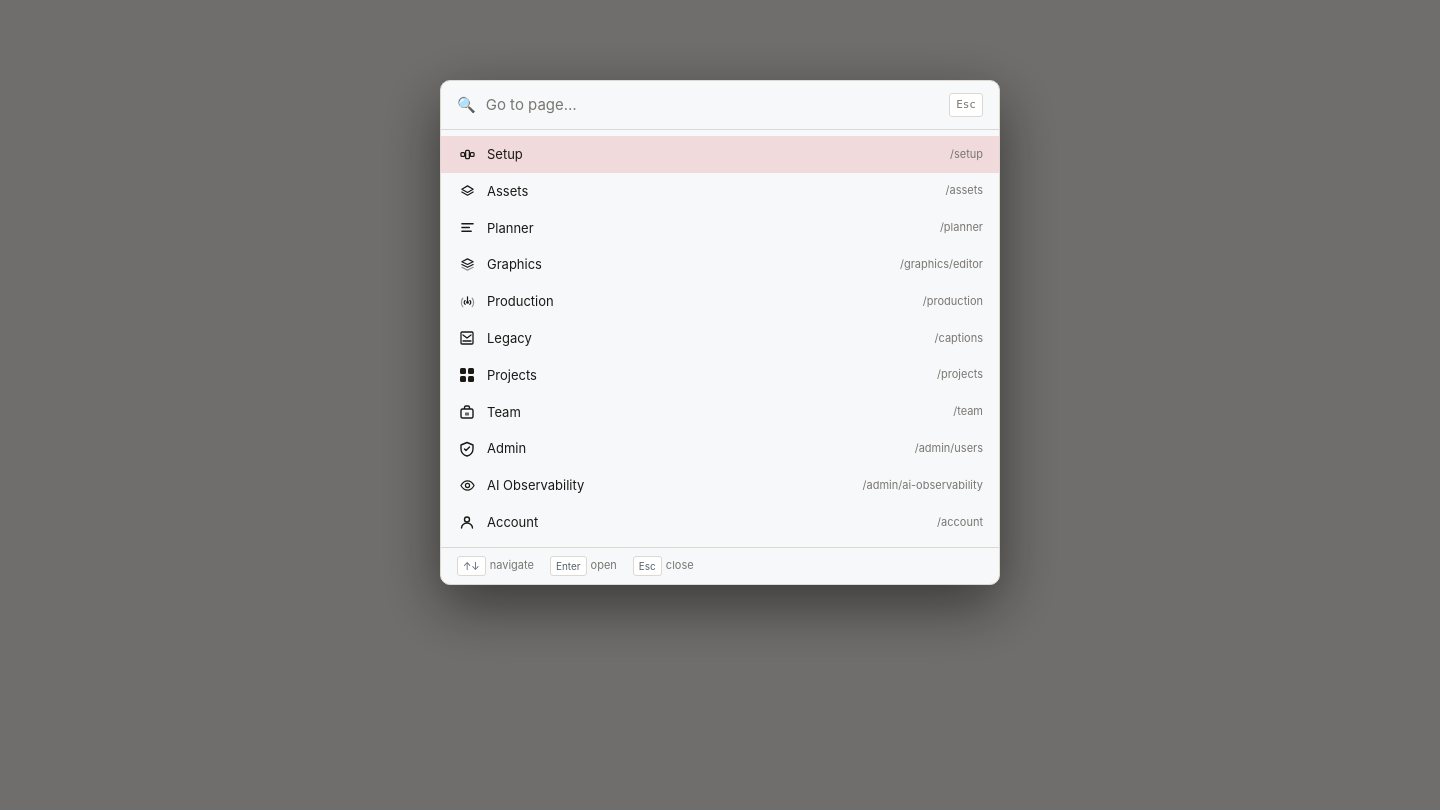
CommandPalette › shows empty state when no items match query
The image size is (1440, 810).
Type "xyznonexistent" into the dropdown at (712, 105), box x1=486 y1=93 x2=939 y2=117
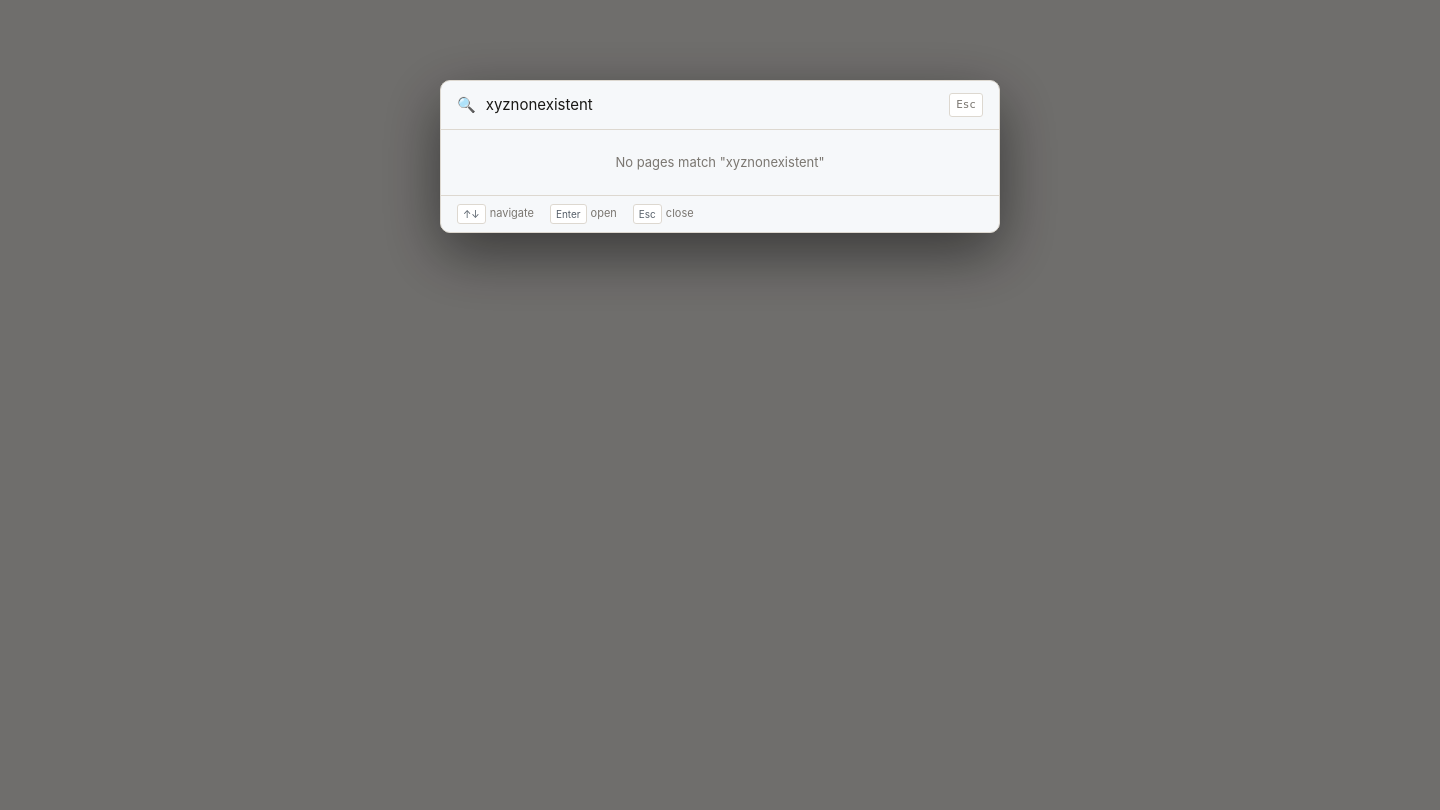
expect the list item "No pages match \"xyznonexistent\"" is shown: met, box x1=615 y1=154 x2=825 y2=170
